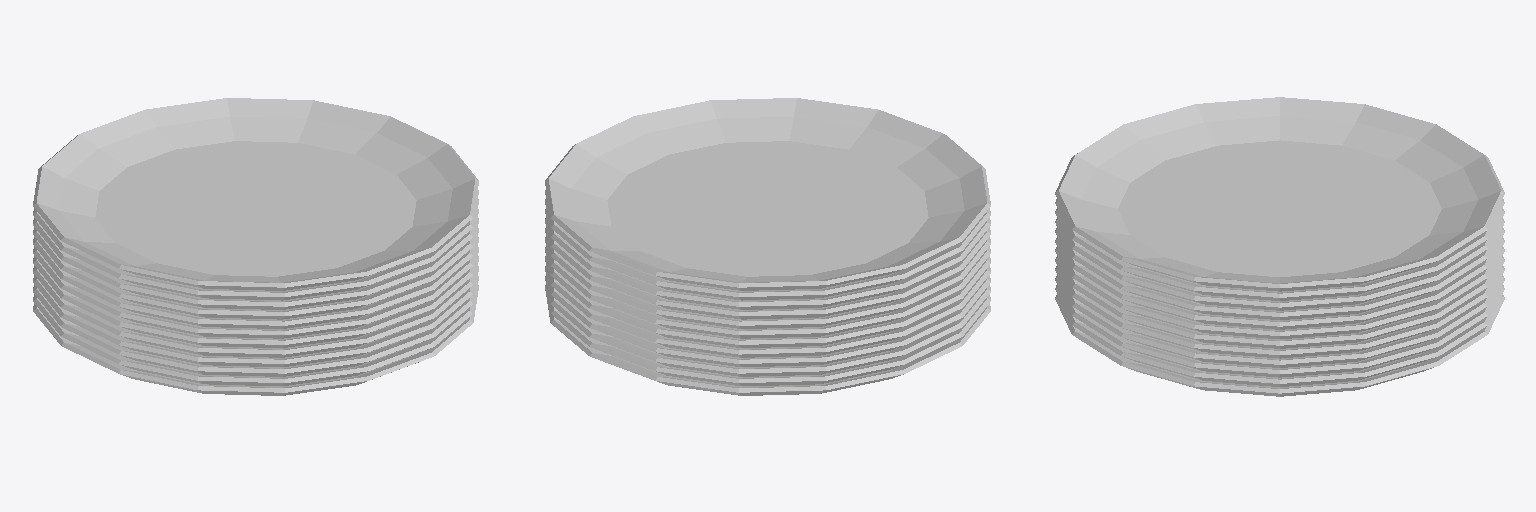
Rendered from PlateStack_2.obj.
3 renders of one model, left to right at view 1: azimuth 30°, elevation 25°; view 2: azimuth 150°, elevation 25°; view 3: azimuth 270°, elevation 25°, orthographic.
Visible parts, largest first — view 1: pSphere52; view 2: pSphere52; view 3: pSphere52.
Part boxes in pixels (left/top/right/bottom): pSphere52: left=33, top=98, right=478, bottom=395; pSphere52: left=545, top=98, right=990, bottom=395; pSphere52: left=1055, top=97, right=1504, bottom=396.
Size of the model in its own units: 4.4 by 1.41 by 4.4.